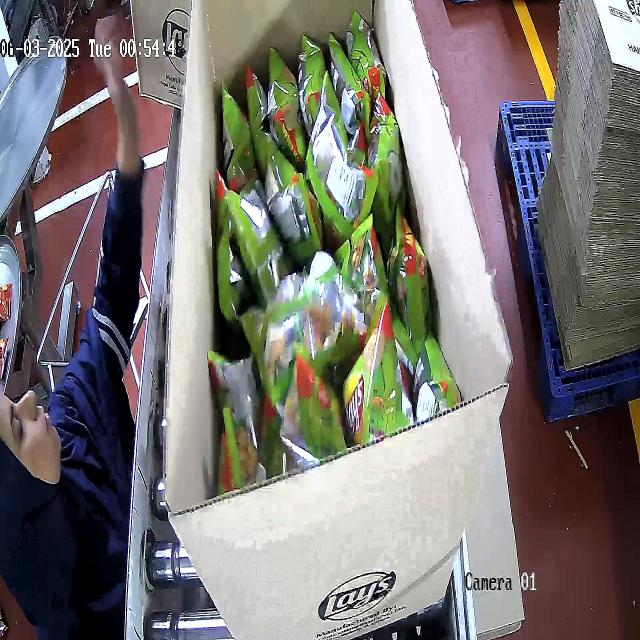YOGURT_HERB: (211, 11, 461, 487)
